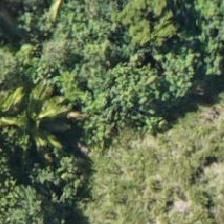coconut_tree: (0, 74, 70, 164)
